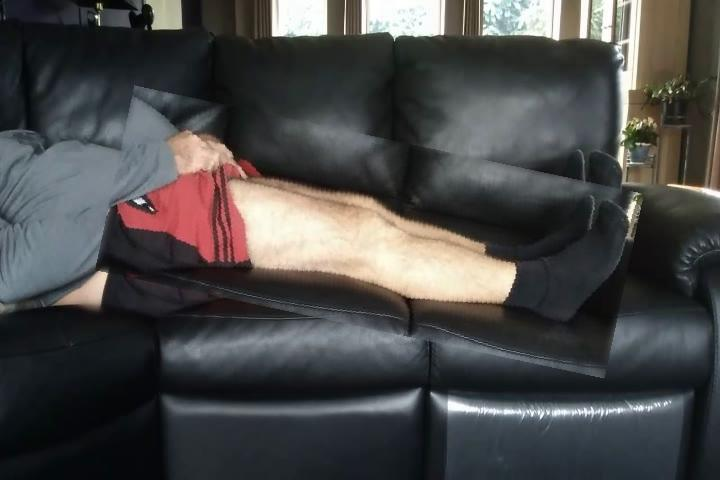lowerbody: (103, 112, 638, 353)
